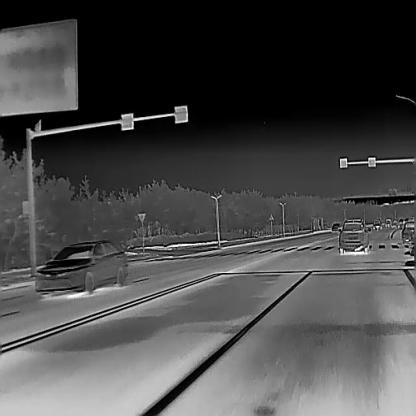car: (35, 239, 128, 294), (338, 217, 371, 253), (401, 221, 416, 242), (331, 222, 341, 231), (372, 219, 381, 228), (397, 219, 404, 228), (385, 218, 391, 226)
